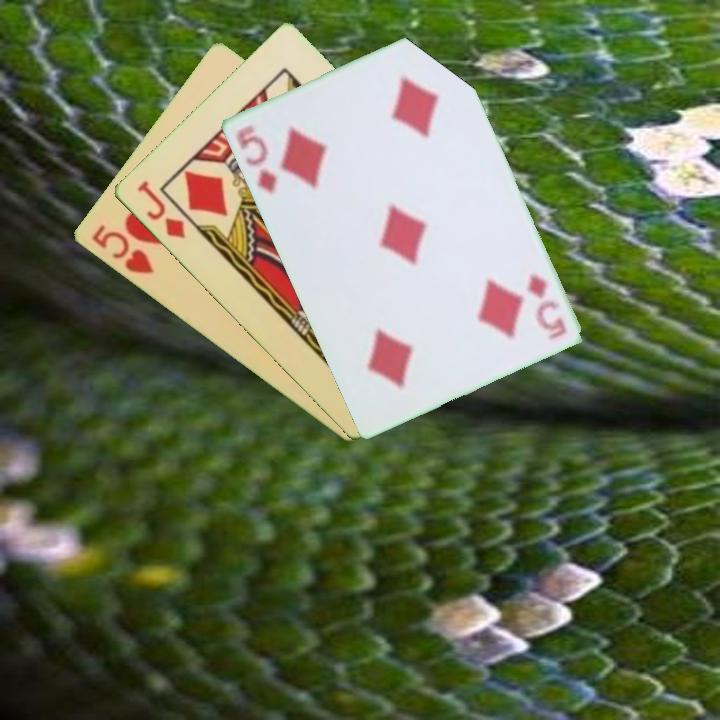5d: (234, 120, 279, 198), (522, 270, 569, 343)
5h: (87, 221, 157, 277)
Jd: (133, 177, 188, 242)
